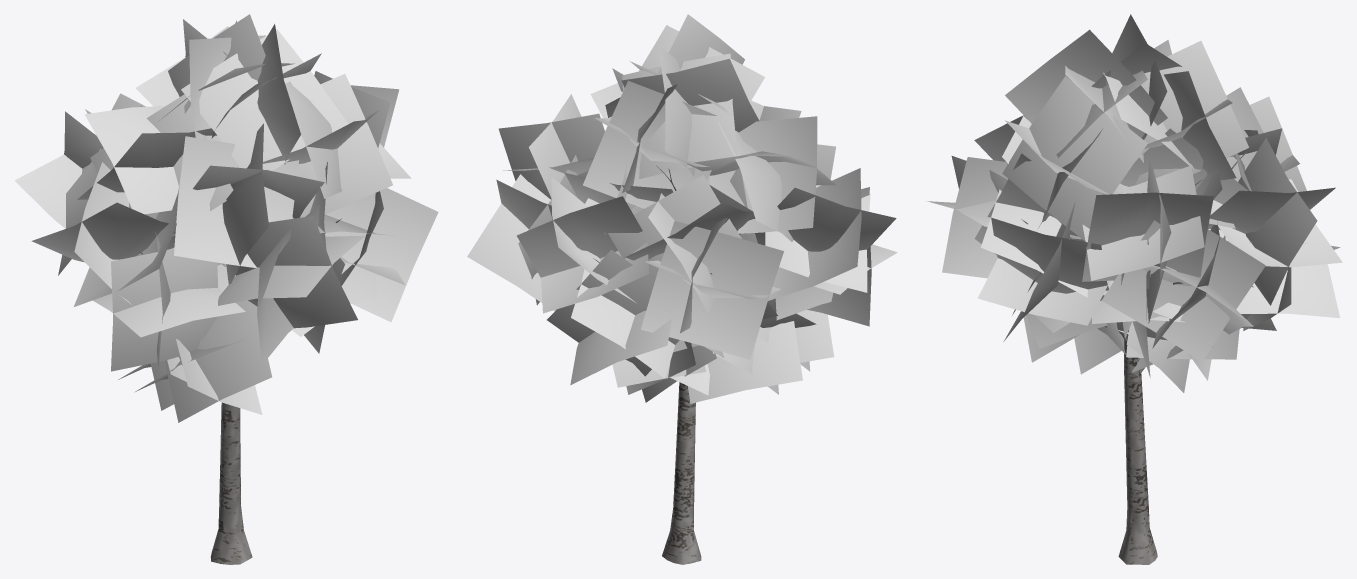
Rendered from tree03_main.fbx.
3 renders of one model, left to right at view 1: azimuth 30°, elevation 25°; view 2: azimuth 150°, elevation 25°; view 3: azimuth 270°, elevation 25°, orthographic. The views are drawn at different scales.
Visible parts, largest first — view 1: Cylinder.003; view 2: Cylinder.003; view 3: Cylinder.003.
Part boxes in pixels (<box>): Cylinder.003: <box>14,14,438,564</box>; Cylinder.003: <box>467,14,897,564</box>; Cylinder.003: <box>926,14,1342,564</box>.
Size of the model in its own units: 465 by 652 by 459.
